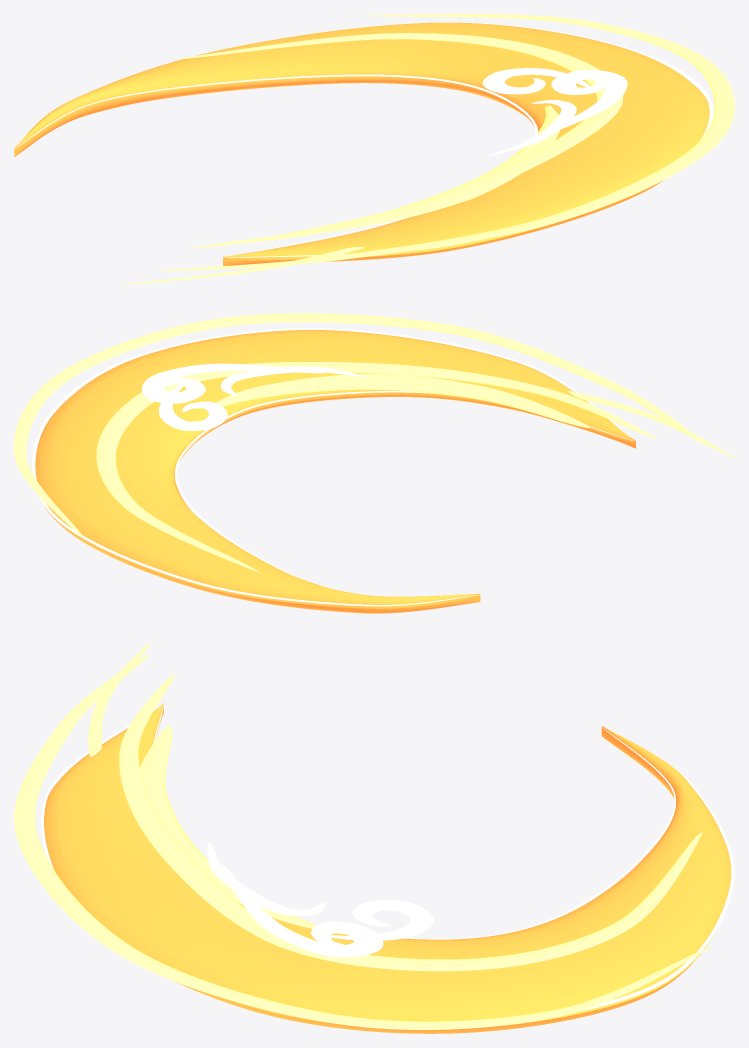
The model's file is SM_DBA_AttackSlash_V2.fbx.
3 renders of one model, top to bottom at view 1: azimuth 30°, elevation 25°; view 2: azimuth 150°, elevation 25°; view 3: azimuth 270°, elevation 25°, orthographic. The views are drawn at different scales.
Parts seen in each view (by area): view 1: SM_DBA_AttackSlash_V2; view 2: SM_DBA_AttackSlash_V2; view 3: SM_DBA_AttackSlash_V2.
Boxes of the visible parts, box(x1,y1,x2,y2) form: SM_DBA_AttackSlash_V2: box(14, 14, 734, 284); SM_DBA_AttackSlash_V2: box(14, 313, 734, 613); SM_DBA_AttackSlash_V2: box(14, 642, 734, 1033).
Size of the model in its own units: 611 by 494 by 59.39.
